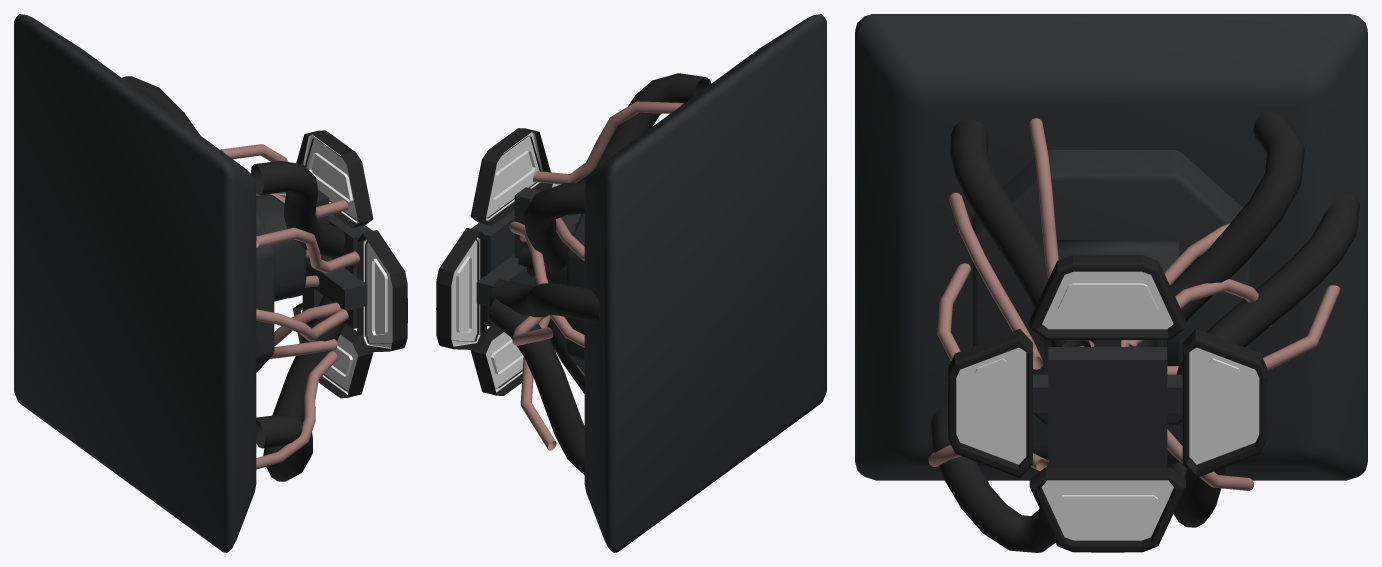
The model's file is receptor.fbx.
3 views of the same model, side by side, from view 1: azimuth 30°, elevation 25°; view 2: azimuth 150°, elevation 25°; view 3: azimuth 270°, elevation 25° (orthographic). The views are drawn at different scales.
Visible parts, largest first — view 1: Socle_receptor, fat_wires, thin_wires, pale 1, pale 2, Sensor; view 2: Socle_receptor, fat_wires, pale 1, thin_wires, pale 2, Sensor; view 3: Socle_receptor, fat_wires, pale 1, pale 2, Sensor, thin_wires.
Part boxes in pixels (<box>): Socle_receptor: <box>14,14,367,552</box>; fat_wires: <box>122,76,348,481</box>; thin_wires: <box>220,144,359,469</box>; pale 1: <box>293,130,373,398</box>; pale 2: <box>276,192,407,352</box>; Sensor: <box>329,214,372,328</box>; Socle_receptor: <box>476,14,826,552</box>; fat_wires: <box>488,73,711,474</box>; pale 1: <box>470,128,550,395</box>; thin_wires: <box>509,101,683,450</box>; pale 2: <box>436,183,560,350</box>; Sensor: <box>471,210,514,326</box>; Socle_receptor: <box>855,14,1367,480</box>; fat_wires: <box>931,112,1360,552</box>; pale 1: <box>1029,254,1185,552</box>; pale 2: <box>948,328,1267,478</box>; Sensor: <box>1048,347,1167,467</box>; thin_wires: <box>928,118,1340,490</box>.
Size of the model in its own units: 183 by 299 by 298.
